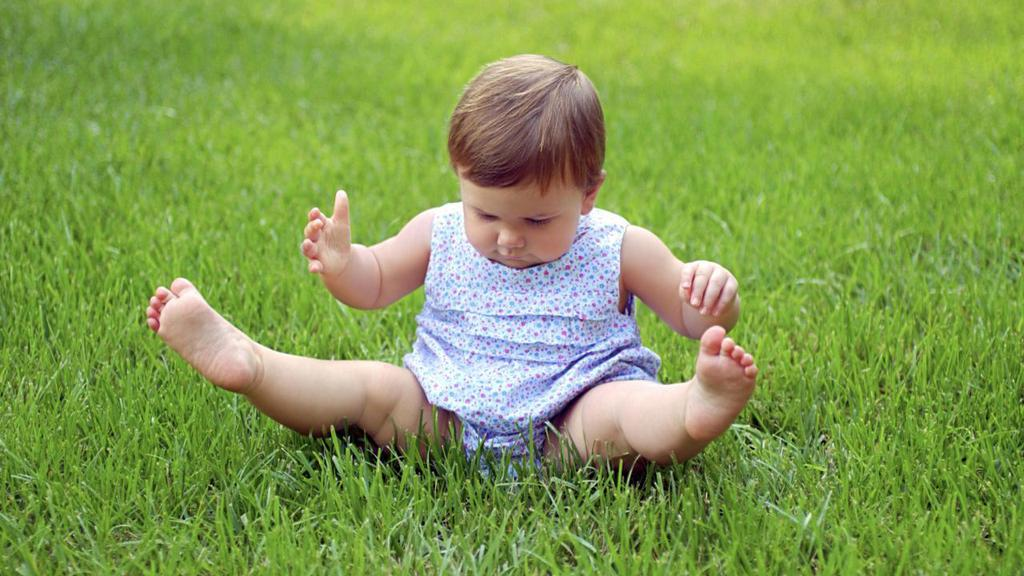child: (139, 34, 764, 495)
